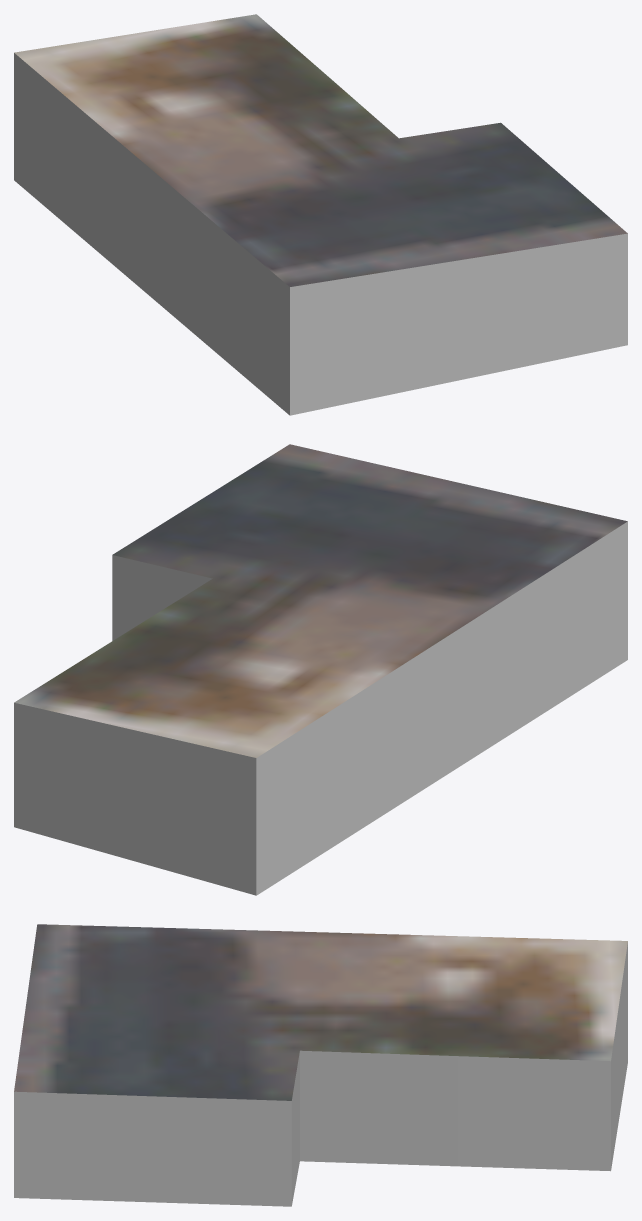
File: DEBW_0010007Tx7B.gltf
3 views of the same model, one above another, from view 1: azimuth 30°, elevation 25°; view 2: azimuth 150°, elevation 25°; view 3: azimuth 270°, elevation 25° (orthographic). The views are drawn at different scales.
Visible parts, largest first — view 1: Z_UP; view 2: Z_UP; view 3: Z_UP.
Part boxes in pixels (bbox=[...]): Z_UP: bbox=[14, 14, 627, 415]; Z_UP: bbox=[14, 444, 627, 895]; Z_UP: bbox=[14, 924, 627, 1206].
Size of the model in its own units: 6.03 by 2.15 by 9.77.
Materials: 2 (1 with a texture image).
